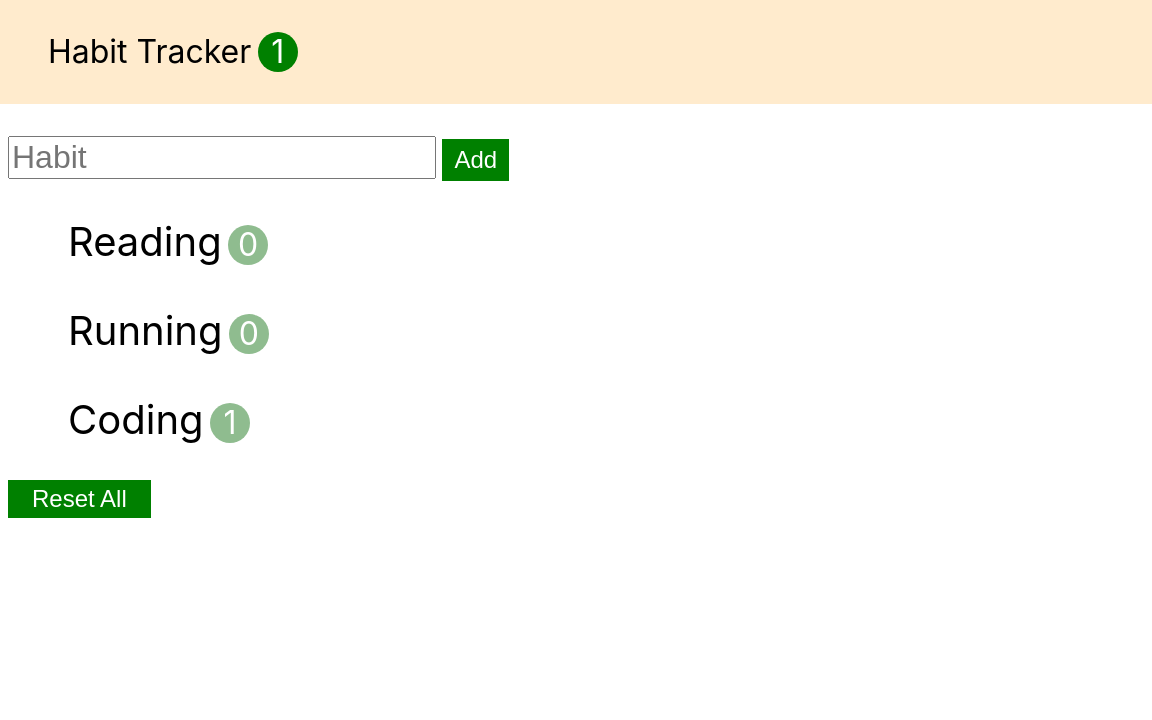
Test: App › Component › adds new habit
Type "New Habit" into the field with placeholder "Habit" at (222, 158), box left=8, top=136, right=436, bottom=179
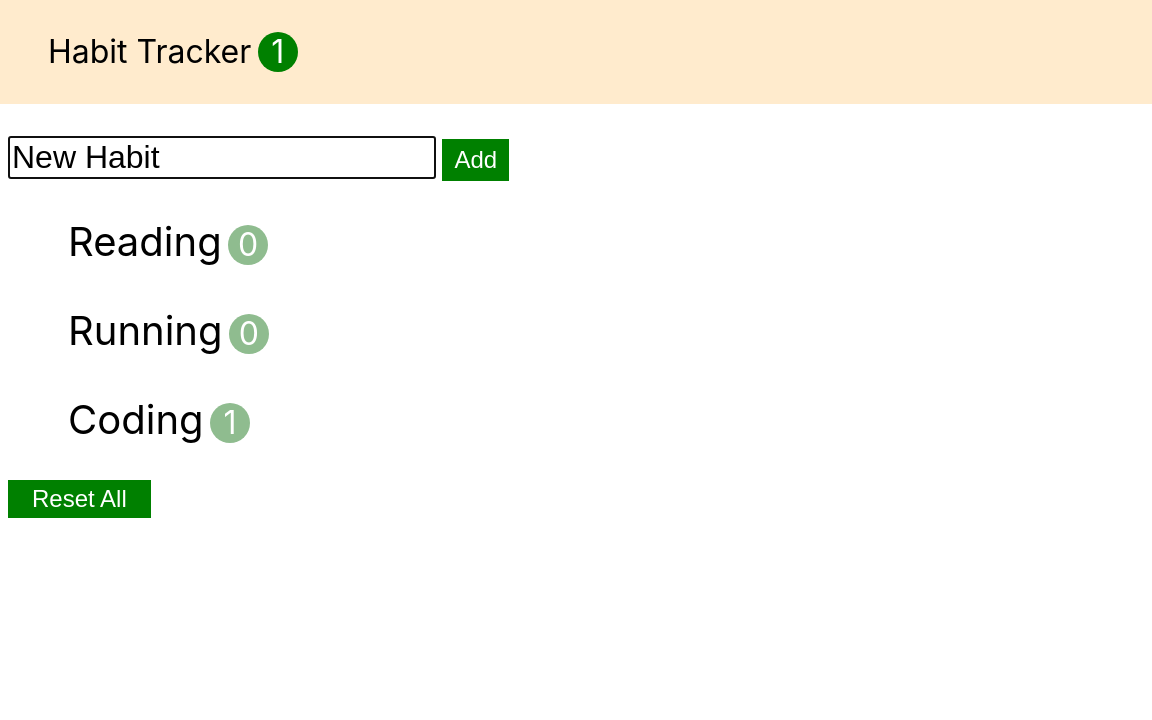
Click the button "Add" at (476, 160), box left=442, top=139, right=509, bottom=181
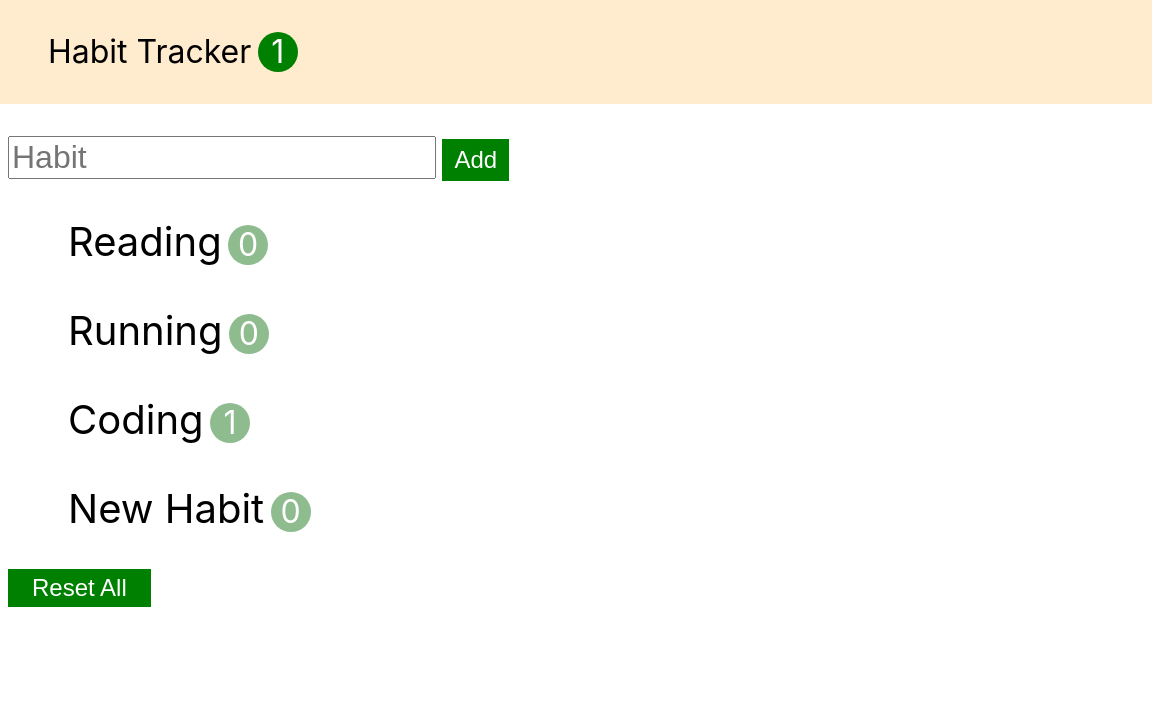
Check: the text with test id "habit-name" reads "New Habit", box left=68, top=484, right=264, bottom=533
Check: the text with test id "habit-count" next to "New Habit" reads "0", box left=280, top=492, right=301, bottom=531
